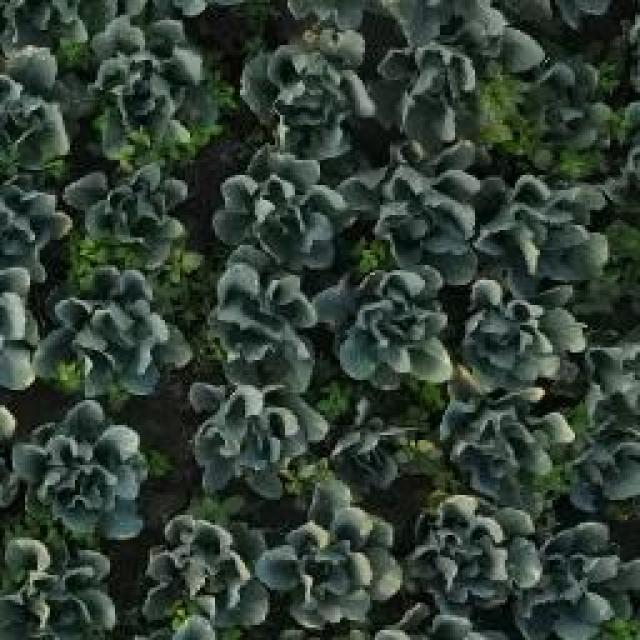cabbage: (15, 404, 147, 541), (44, 268, 186, 391), (222, 142, 360, 268), (317, 268, 457, 392), (264, 496, 399, 624), (406, 486, 536, 603), (140, 514, 266, 634), (438, 392, 576, 501), (190, 381, 322, 491), (486, 169, 614, 281), (83, 49, 204, 163), (527, 517, 640, 637), (366, 152, 485, 265), (66, 168, 197, 270), (206, 263, 317, 381), (460, 277, 570, 395), (239, 43, 355, 150), (374, 36, 484, 140), (0, 542, 113, 639), (526, 52, 619, 151), (328, 400, 409, 479)
